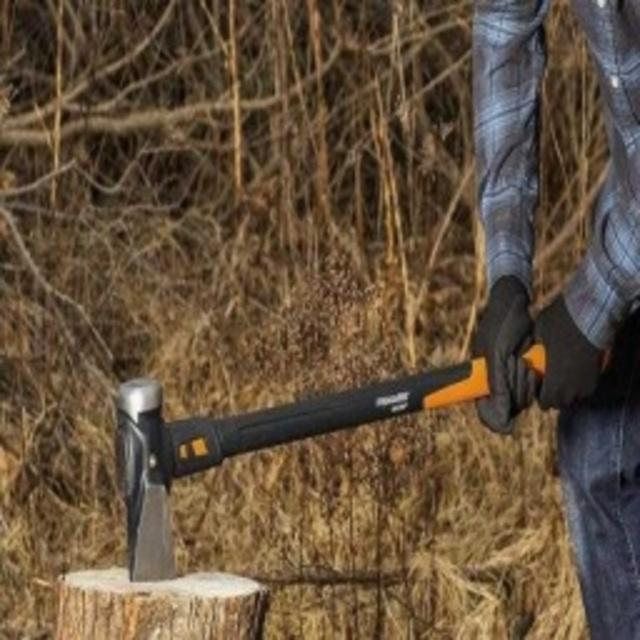ax: (102, 317, 622, 599)
